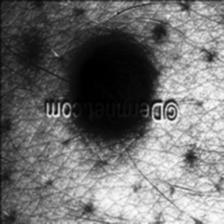Potentially Malignant Skin Tumors: (78, 46, 148, 128)
